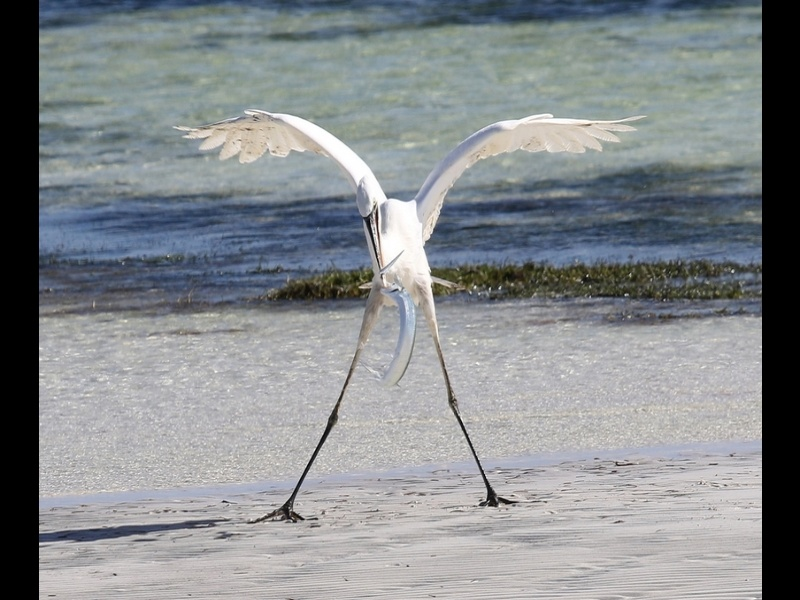heron: (169, 109, 644, 525)
